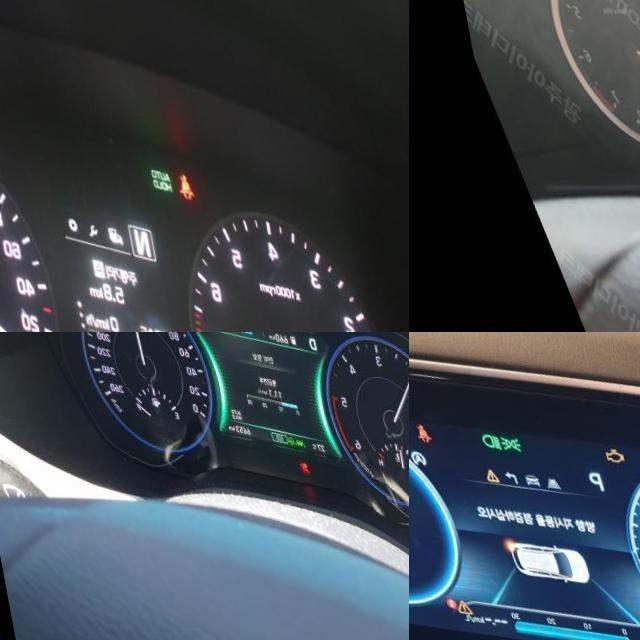Central Warning lamp: (475, 451, 494, 470)
LaneCenteringOff: (537, 457, 556, 474)
Low beam: (473, 415, 497, 438)
SideLamp: (492, 416, 518, 440)
